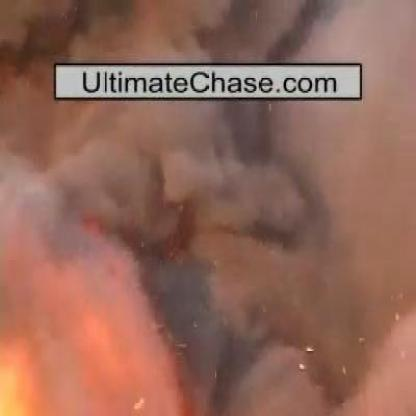-: (12, 105, 376, 360), (18, 1, 370, 59)
